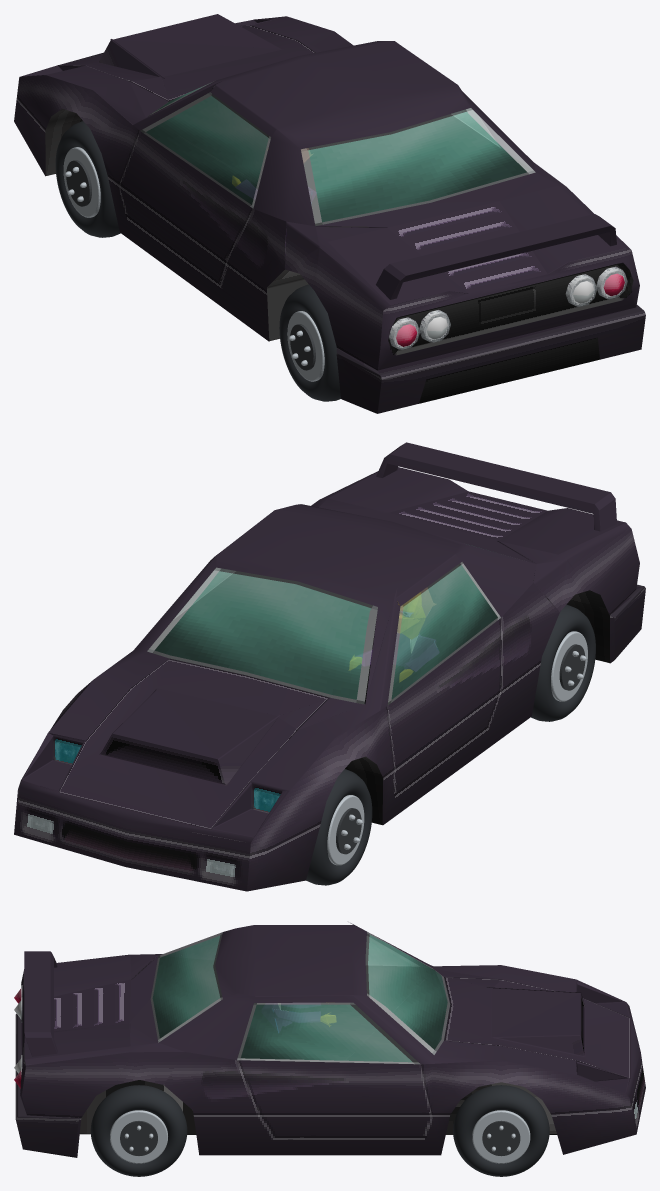
File: car-cblbart.glb
3 views of the same model, one above another, from view 1: azimuth 30°, elevation 25°; view 2: azimuth 150°, elevation 25°; view 3: azimuth 270°, elevation 25° (orthographic). The views are drawn at different scales.
Visible parts, largest first — view 1: cBlbartShape.001, cBlbartShape.004, cBlbartShape.002, cBlbartShape.007, cBlbartShape.006, cBlbartShape.005, Rounded tire.027, Rounded tire.025, cBlbartShape, Alloy rim.025, Alloy rim.027, Rim recess.054 (+1 smaller); view 2: cBlbartShape.004, cBlbartShape.002, cBlbartShape.007, cBlbartShape.006, cBlbartShape.001, cBlbartShape.005, Rounded tire.027, Rounded tire.025, traffPassCShape, cBlbartShape, Alloy rim.025, Alloy rim.027 (+2 smaller); view 3: cBlbartShape.003, cBlbartShape.004, cBlbartShape.007, cBlbartShape.006, cBlbartShape.001, Rounded tire.024, Rounded tire.026, cBlbartShape.002, cBlbartShape.005, cBlbartShape, Alloy rim.024, Alloy rim.026 (+3 smaller).
Part boxes in pixels (<box>): cBlbartShape.001: <box>328,186,645,413</box>; cBlbartShape.004: <box>19,14,535,225</box>; cBlbartShape.002: <box>14,75,630,370</box>; cBlbartShape.007: <box>140,81,535,226</box>; cBlbartShape.006: <box>141,88,594,339</box>; cBlbartShape.005: <box>387,201,547,293</box>; Rounded tire.027: <box>279,284,340,401</box>; Rounded tire.025: <box>55,121,120,237</box>; cBlbartShape: <box>45,86,368,341</box>; Alloy rim.025: <box>63,147,100,217</box>; Alloy rim.027: <box>287,311,324,381</box>; Rim recess.054: <box>290,324,315,370</box>; cBlbartShape.004: <box>14,504,535,891</box>; cBlbartShape.002: <box>247,471,639,891</box>; cBlbartShape.007: <box>147,545,500,705</box>; cBlbartShape.006: <box>148,562,500,704</box>; cBlbartShape.001: <box>328,442,645,663</box>; cBlbartShape.005: <box>388,491,547,540</box>; Rounded tire.027: <box>531,604,595,721</box>; Rounded tire.025: <box>306,769,372,885</box>; traffPassCShape: <box>349,588,439,681</box>; cBlbartShape: <box>345,580,609,824</box>; Alloy rim.025: <box>327,795,364,865</box>; Alloy rim.027: <box>551,631,587,701</box>; cBlbartShape.003: <box>22,1052,636,1155</box>; cBlbartShape.004: <box>159,923,645,1133</box>; cBlbartShape.007: <box>150,931,450,1064</box>; cBlbartShape.006: <box>14,956,449,1073</box>; cBlbartShape.001: <box>14,951,131,1157</box>; Rounded tire.024: <box>453,1085,549,1176</box>; Rounded tire.026: <box>90,1085,187,1176</box>; cBlbartShape.002: <box>25,954,624,1157</box>; cBlbartShape.005: <box>54,979,131,1031</box>; cBlbartShape: <box>79,971,614,1134</box>; Alloy rim.024: <box>472,1110,530,1163</box>; Alloy rim.026: <box>110,1110,167,1163</box>.
Size of the model in its own units: 2.25 by 1.65 by 5.39.
Materials: 11 (8 with a texture image).
